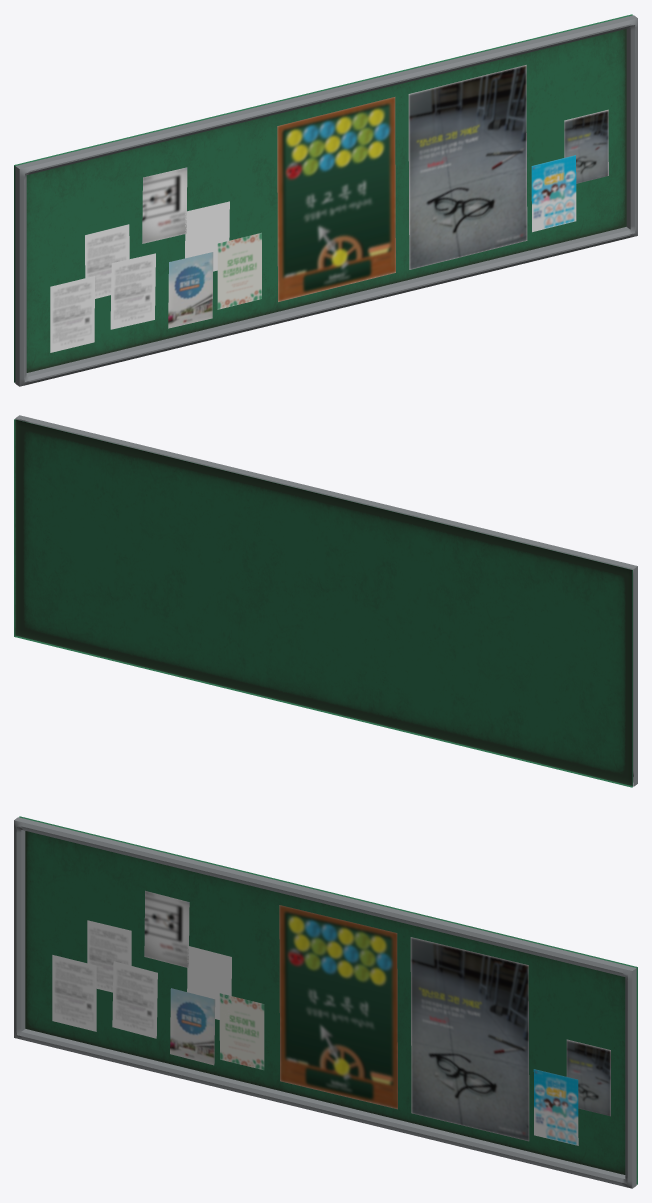
Rendered from hallway_board_0424.fbx.
3 views of the same model, one above another, from view 1: azimuth 30°, elevation 25°; view 2: azimuth 150°, elevation 25°; view 3: azimuth 330°, elevation 25° (orthographic).
Visible parts, largest first — view 1: Board_hallway_GEO, hallway_posters_GEO; view 2: Board_hallway_GEO; view 3: Board_hallway_GEO, hallway_posters_GEO.
Part boxes in pixels (left/top/right/bottom): Board_hallway_GEO: left=14, top=14, right=637, bottom=386; hallway_posters_GEO: left=50, top=65, right=608, bottom=352; Board_hallway_GEO: left=14, top=415, right=637, bottom=787; Board_hallway_GEO: left=14, top=816, right=637, bottom=1188; hallway_posters_GEO: left=52, top=890, right=610, bottom=1145.
Size of the model in its own units: 65.95 by 22.18 by 1.28.
Materials: 2 (2 with a texture image).
